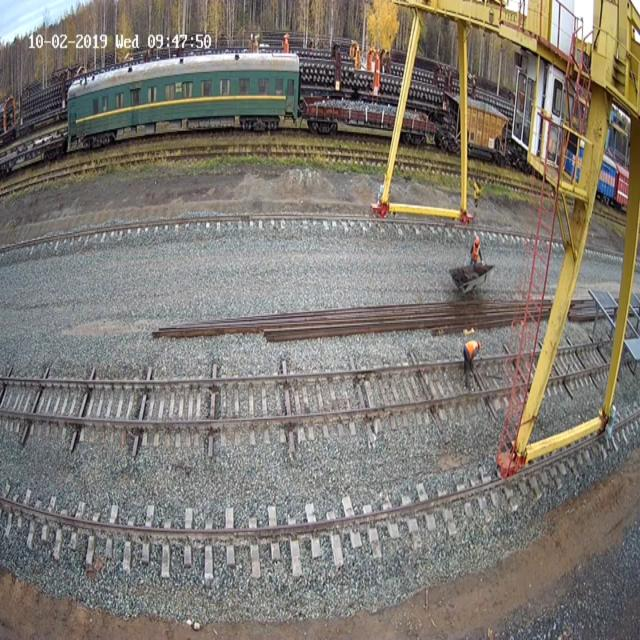Helmet: (474, 237, 480, 246)
Person: (463, 340, 481, 391), (470, 235, 483, 266)
